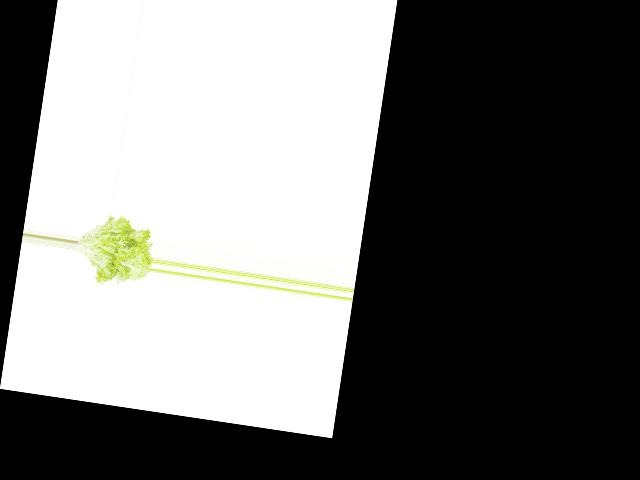lettuce: (70, 207, 158, 290)
